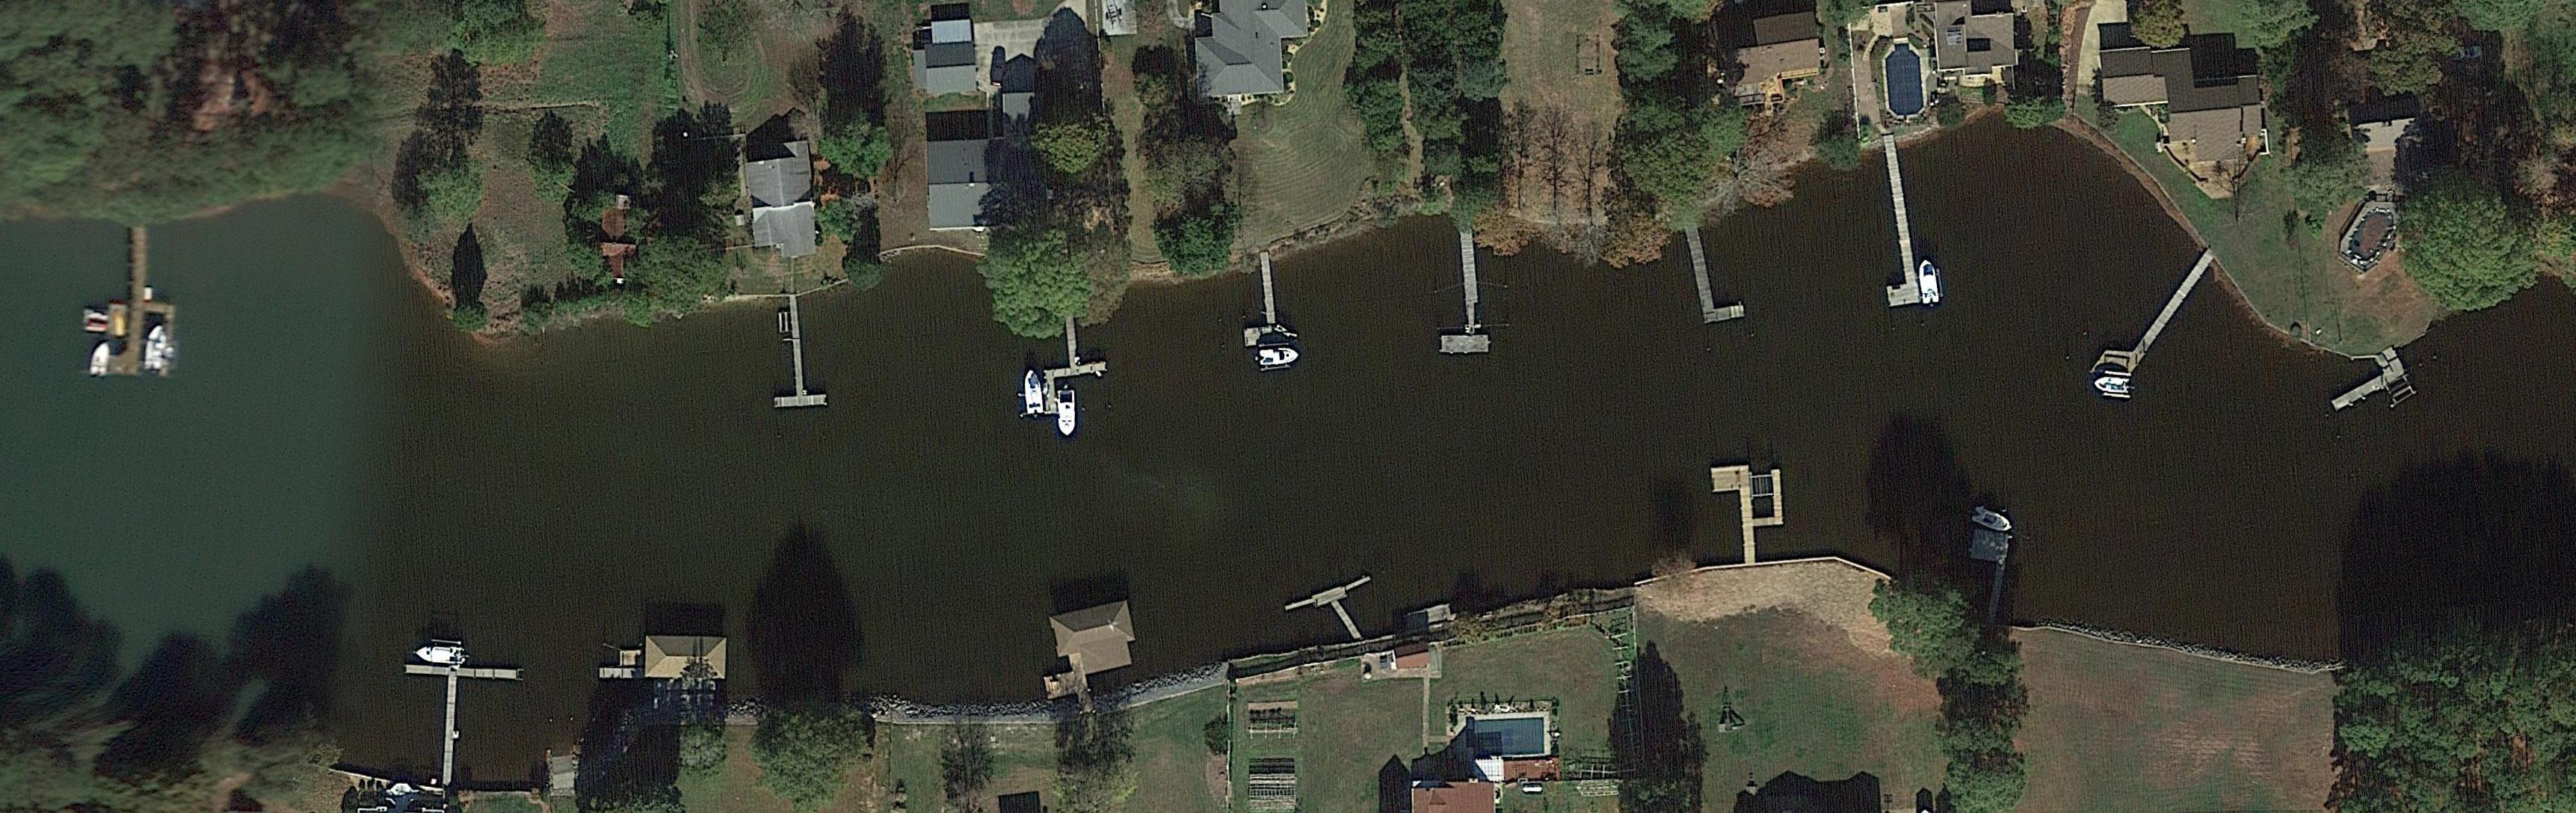harbor: (2091, 243, 2216, 391), (399, 664, 520, 785), (106, 230, 180, 379), (1283, 573, 1394, 659), (1867, 148, 1922, 307), (1038, 313, 1113, 417), (1710, 463, 1785, 565), (770, 300, 827, 410), (2320, 347, 2409, 414), (1440, 242, 1490, 355), (1688, 233, 1746, 327), (1241, 269, 1292, 349), (1962, 530, 2011, 612)
ship: (140, 321, 172, 373), (1970, 505, 2017, 540), (85, 340, 114, 381), (1916, 258, 1941, 307), (412, 644, 464, 666), (1023, 367, 1044, 418), (1056, 391, 1076, 439), (2092, 373, 2132, 396), (1260, 346, 1297, 369)
